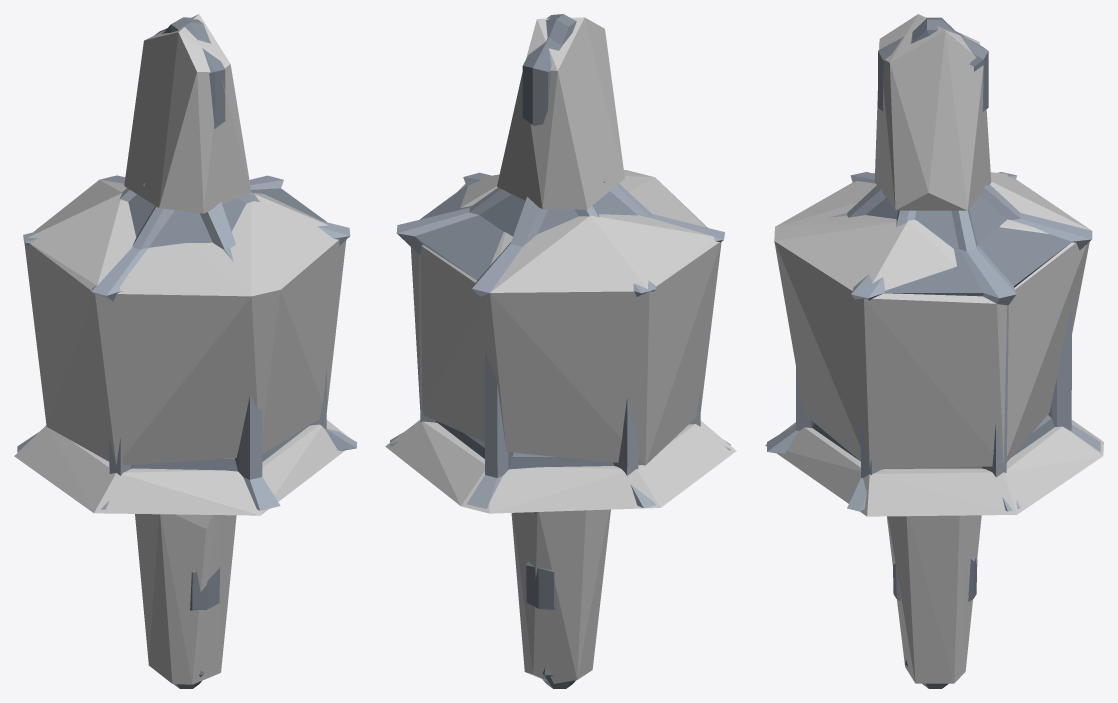
The model's file is SM_Prop_Lantern_03.fbx.
3 views of the same model, side by side, from view 1: azimuth 30°, elevation 25°; view 2: azimuth 150°, elevation 25°; view 3: azimuth 270°, elevation 25° (orthographic).
Parts seen in each view (by area): view 1: SM_Prop_Lantern_03_ConvexHulls, SM_Prop_Lantern_03; view 2: SM_Prop_Lantern_03_ConvexHulls, SM_Prop_Lantern_03; view 3: SM_Prop_Lantern_03_ConvexHulls, SM_Prop_Lantern_03.
Boxes of the visible parts, <box> form: SM_Prop_Lantern_03_ConvexHulls: <box>14,14,348,684</box>; SM_Prop_Lantern_03: <box>17,17,356,688</box>; SM_Prop_Lantern_03_ConvexHulls: <box>385,17,736,683</box>; SM_Prop_Lantern_03: <box>390,14,730,688</box>; SM_Prop_Lantern_03_ConvexHulls: <box>765,14,1103,683</box>; SM_Prop_Lantern_03: <box>767,17,1100,688</box>.
Size of the model in its own units: 32.56 by 35.18 by 76.67.
2 materials, 1 textured.
